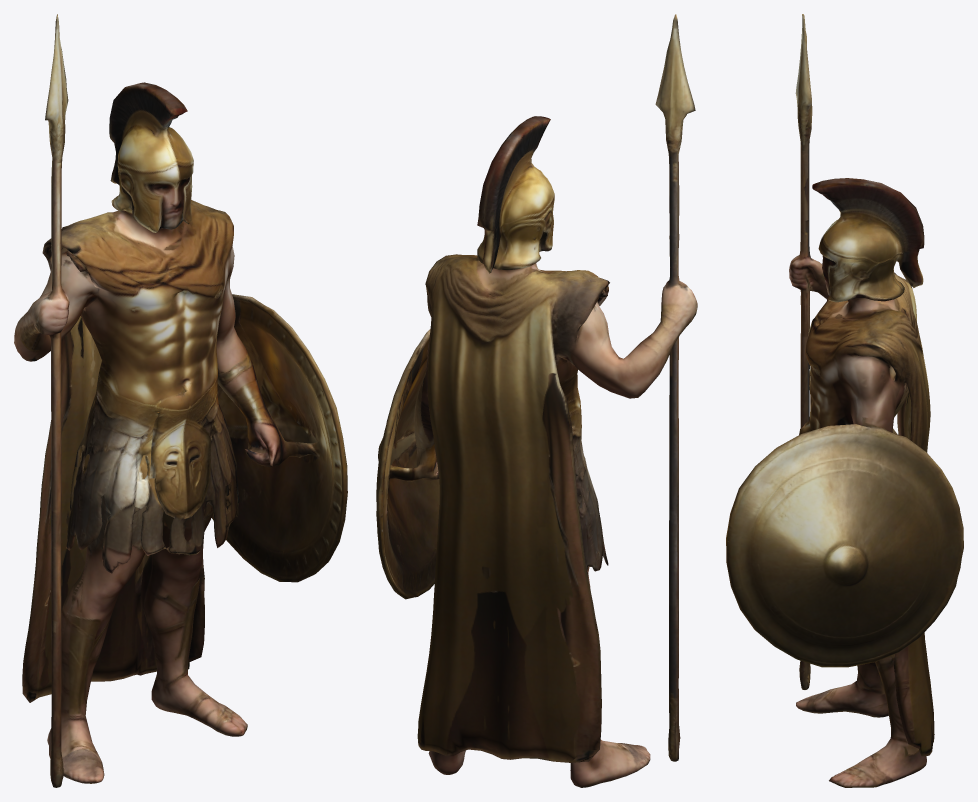
The model's file is greek_warrior.glb.
The picture shows the model from 3 angles, left to right: view 1: azimuth 30°, elevation 25°; view 2: azimuth 150°, elevation 25°; view 3: azimuth 270°, elevation 25°; orthographic projection. The views are drawn at different scales.
Visible parts, largest first — view 1: Mesh1_Mesh1.053; view 2: Mesh1_Mesh1.053; view 3: Mesh1_Mesh1.053.
Part boxes in pixels (<box>): Mesh1_Mesh1.053: <box>14,14,347,787</box>; Mesh1_Mesh1.053: <box>376,14,697,787</box>; Mesh1_Mesh1.053: <box>726,14,963,787</box>.
Size of the model in its own units: 0.8009 by 1.99 by 0.627.
Materials: 1 (1 with a texture image).
